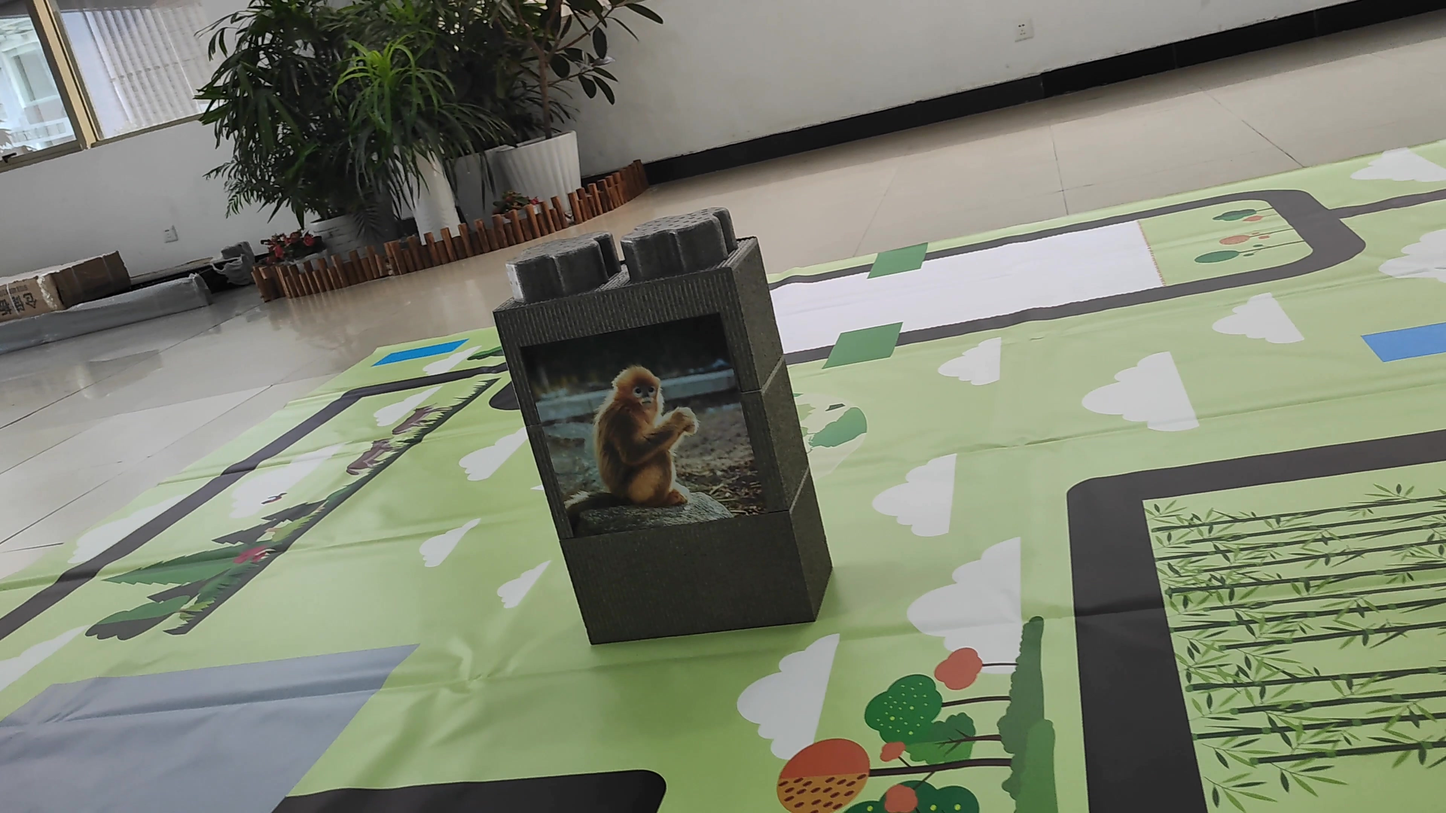monkey: (517, 312, 755, 540)
